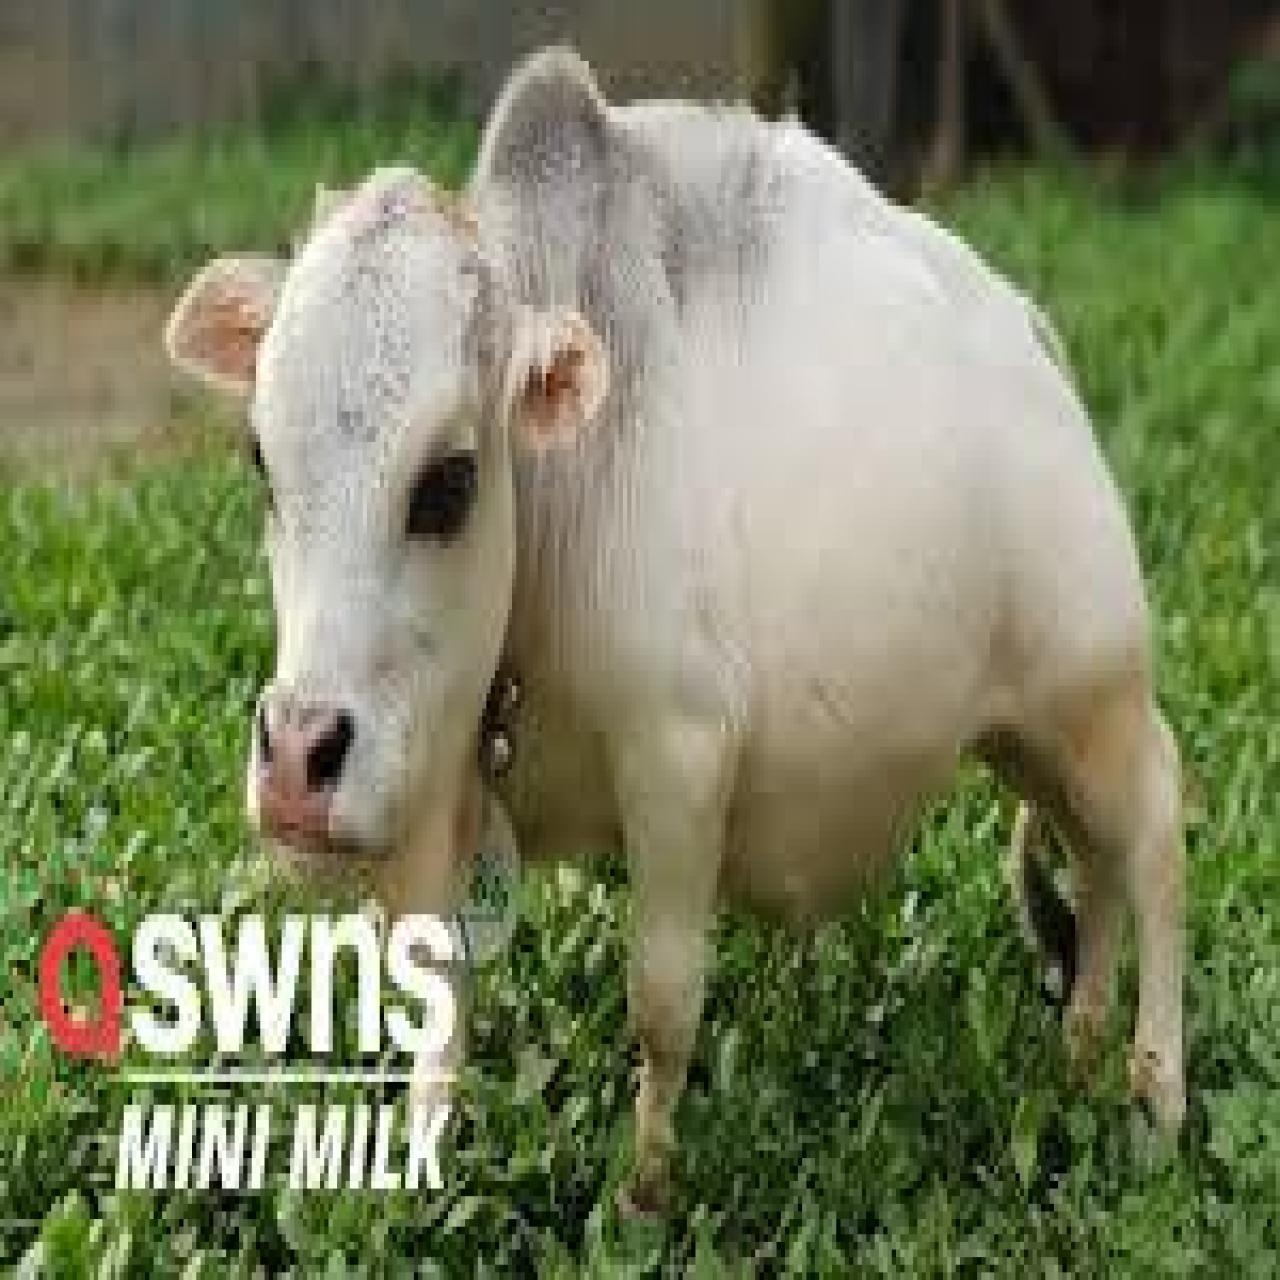cow: (164, 95, 1184, 1207)
